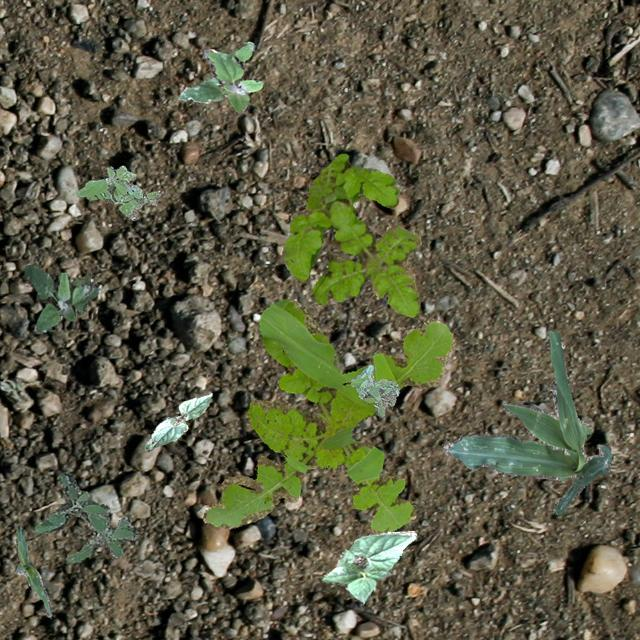crop: (442, 330, 612, 514), (322, 530, 416, 602), (144, 392, 212, 449), (14, 524, 51, 616)
weed: (202, 298, 454, 534), (282, 152, 421, 316), (34, 472, 138, 562), (178, 40, 262, 111), (22, 264, 98, 332), (74, 164, 160, 220), (349, 364, 398, 416)
